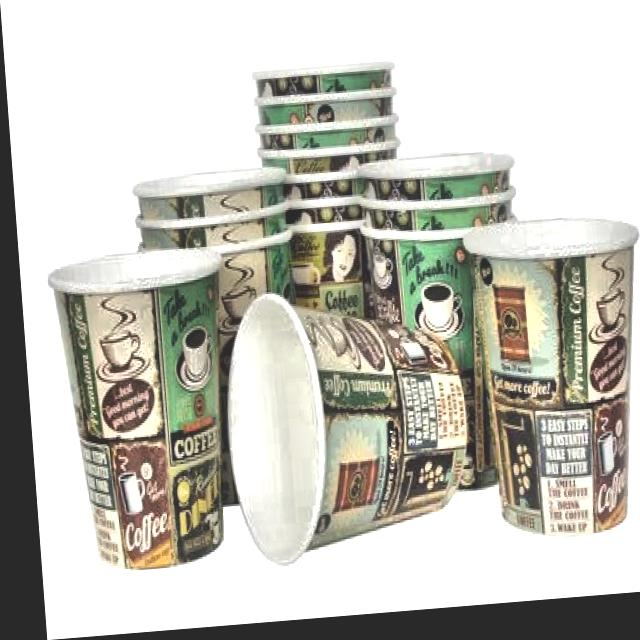Cup: (237, 51, 425, 463), (210, 279, 469, 573), (350, 144, 536, 533), (109, 151, 302, 524), (452, 208, 640, 561), (36, 244, 226, 571)
